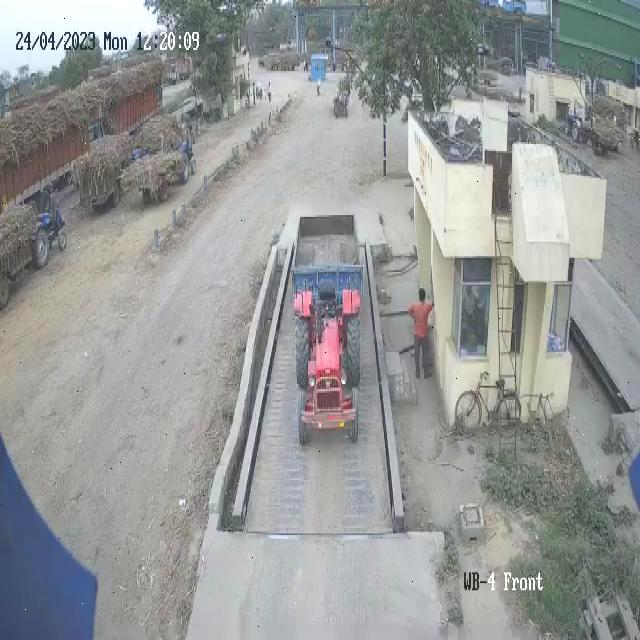Tratores - v5 YOLO V8L 2024-11-13: (293, 278, 361, 446), (30, 193, 68, 273)
